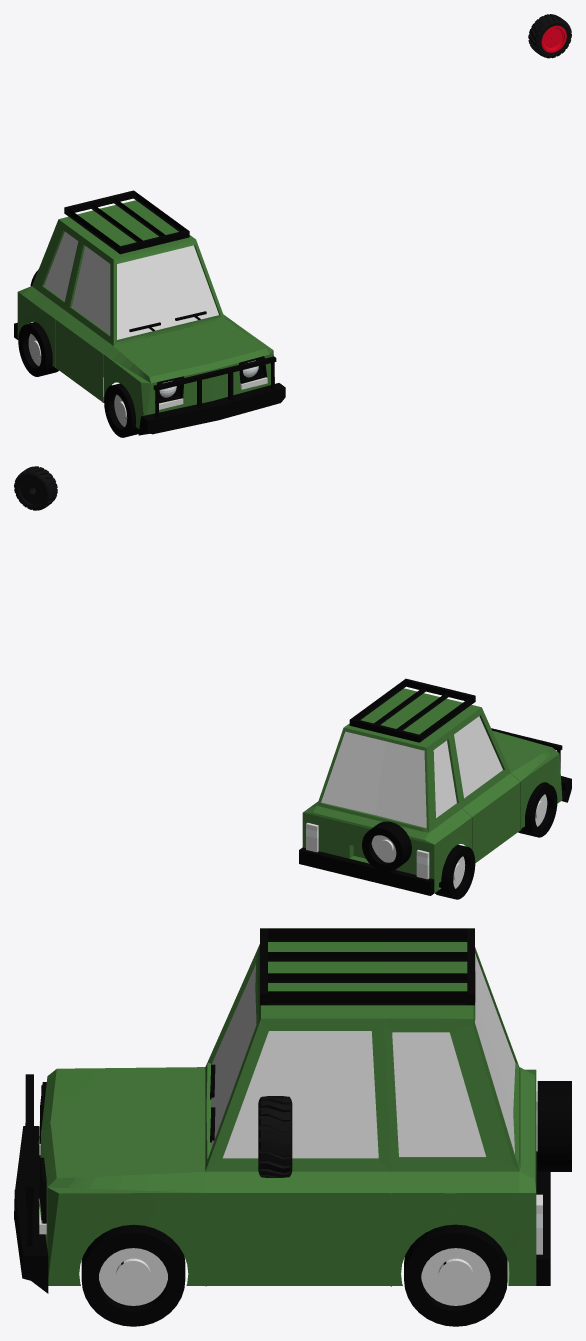
File: jeep.glb
The picture shows the model from 3 angles, top to bottom: view 1: azimuth 30°, elevation 25°; view 2: azimuth 150°, elevation 25°; view 3: azimuth 270°, elevation 25°; orthographic projection. The views are drawn at different scales.
Parts seen in each view (by area): view 1: Body, FrontWindow.002, Cube.002, RoofRack.025, FrontLeftWindow, plastic, Cylinder.010, Cube.016, Cylinder.005, Cube.012, Cube.004; view 2: Body, ReawWindow.003, RoofRack.025, FrontLeftWindow, Cube.022, plastic, Cylinder.007, Cylinder.010, Cube.016, Cylinder.005; view 3: Body, FrontLeftWindow, RoofRack.025, Cube.016, Cylinder.001, Cylinder.003, ReawWindow.003, Cylinder.007, Cube.002, FrontWindow.002, Cylinder.002, Cylinder.004 (+4 smaller).
Part boxes in pixels (x1,y1,x2,y2): Body: [17, 200, 274, 428]; FrontWindow.002: [117, 245, 218, 339]; Cube.002: [138, 383, 285, 435]; RoofRack.025: [64, 190, 189, 254]; FrontLeftWindow: [72, 246, 110, 334]; plastic: [528, 14, 571, 58]; Cylinder.010: [18, 322, 58, 376]; Cube.016: [44, 232, 78, 300]; Cylinder.005: [104, 383, 143, 437]; Cube.012: [153, 356, 276, 390]; Cube.004: [155, 356, 266, 403]; Body: [302, 688, 562, 892]; ReawWindow.003: [321, 731, 426, 827]; RoofRack.025: [349, 678, 475, 742]; FrontLeftWindow: [454, 716, 502, 798]; Cube.022: [299, 847, 434, 895]; plastic: [14, 466, 57, 510]; Cylinder.007: [362, 821, 411, 871]; Cylinder.010: [435, 844, 475, 899]; Cube.016: [433, 740, 456, 817]; Cylinder.005: [518, 783, 557, 837]; Body: [38, 942, 536, 1286]; FrontLeftWindow: [223, 1031, 378, 1158]; RoofRack.025: [260, 928, 474, 1005]; Cube.016: [392, 1032, 485, 1156]; Cylinder.001: [81, 1224, 185, 1326]; Cylinder.003: [404, 1224, 507, 1326]; ReawWindow.003: [475, 953, 515, 1154]; Cylinder.007: [537, 1081, 571, 1171]; Cube.002: [14, 1126, 48, 1293]; FrontWindow.002: [211, 964, 256, 1147]; Cylinder.002: [99, 1248, 167, 1305]; Cylinder.004: [421, 1248, 490, 1305].
Bounding box in the file's own units: 1.76 × 0.9502 × 0.8996.
